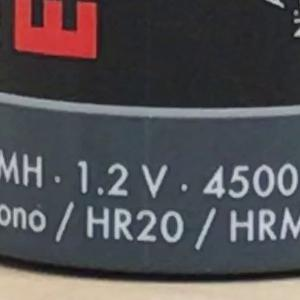HR20: (78, 202, 188, 248)
